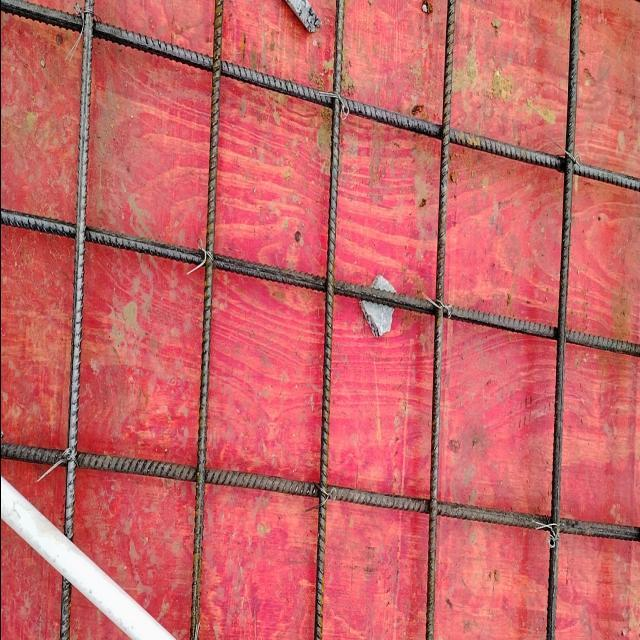ribbed bar: (1, 1, 640, 192), (1, 211, 640, 359), (1, 441, 640, 542), (188, 1, 226, 640), (544, 1, 580, 640), (312, 1, 348, 640), (58, 1, 94, 640), (424, 1, 456, 640)
